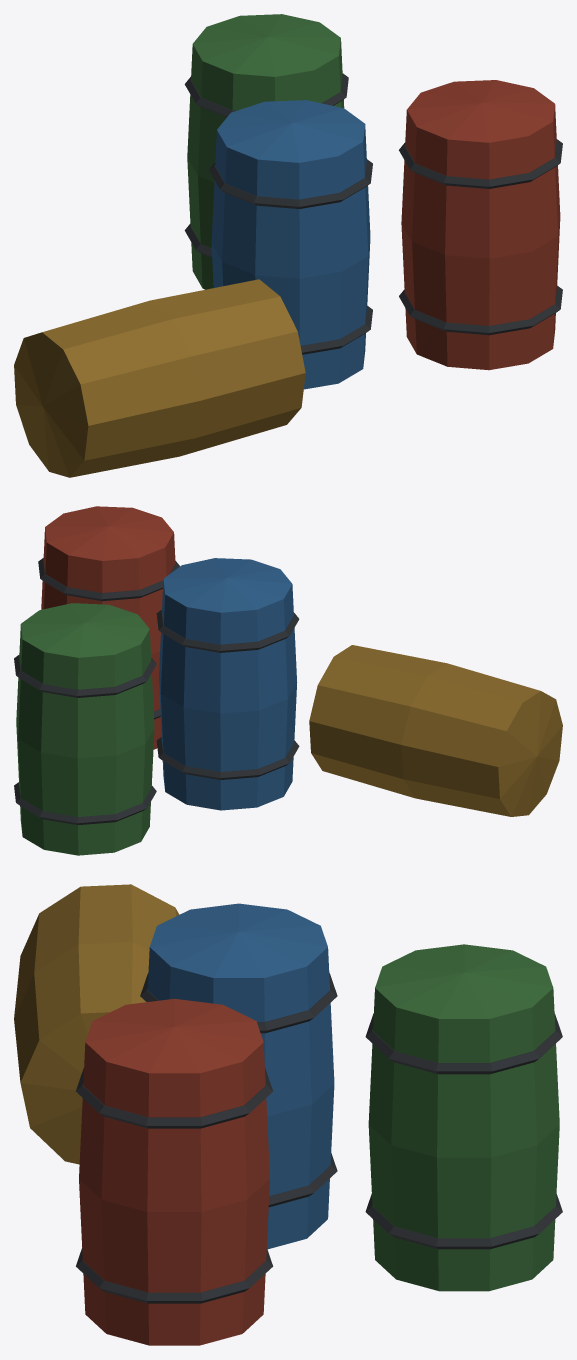
File: s-barrels.glb
3 views of the same model, one above another, from view 1: azimuth 30°, elevation 25°; view 2: azimuth 150°, elevation 25°; view 3: azimuth 270°, elevation 25° (orthographic). The views are drawn at different scales.
Parts seen in each view (by area): view 1: p; view 2: p; view 3: p.
Boxes of the visible parts, box(x1,y1,x2,y2) form: p: box(14, 14, 562, 477); p: box(14, 506, 562, 855); p: box(14, 884, 562, 1345).
Size of the model in its own units: 2.3 by 1 by 1.71.
